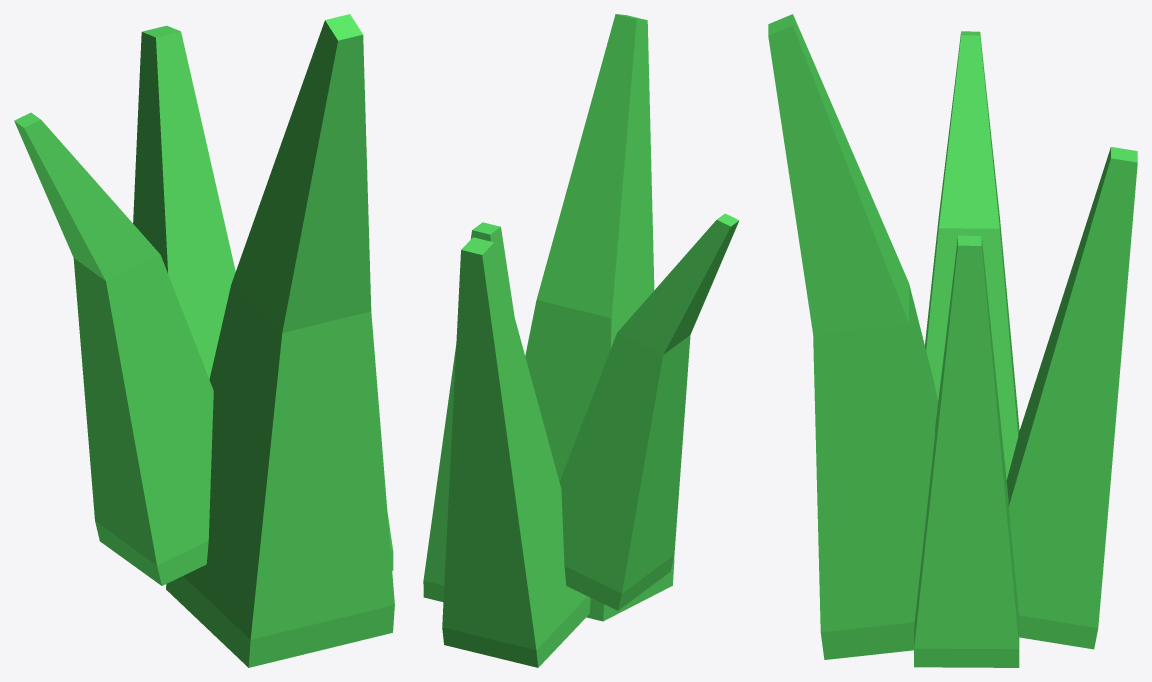
Rendered from grass.fbx.
3 views of the same model, side by side, from view 1: azimuth 30°, elevation 25°; view 2: azimuth 150°, elevation 25°; view 3: azimuth 270°, elevation 25° (orthographic). The views are drawn at different scales.
Visible parts, largest first — view 1: Cube, Cube.003, Cube.001; view 2: Cube.001, Cube, Cube.003, Cube.002; view 3: Cube, Cube.001, Cube.002, Cube.003.
Boxes of the visible parts, x1,y1,x2,y2 form: Cube: [166, 14, 394, 667]; Cube.003: [14, 112, 213, 585]; Cube.001: [133, 25, 235, 379]; Cube.001: [442, 237, 590, 667]; Cube: [525, 14, 674, 621]; Cube.003: [559, 213, 739, 610]; Cube.002: [423, 222, 514, 601]; Cube: [768, 14, 938, 659]; Cube.001: [1006, 147, 1137, 649]; Cube.002: [914, 235, 1019, 667]; Cube.003: [925, 31, 1019, 479].
Bounding box in the file's own units: 18.17 × 32.58 × 17.97.
